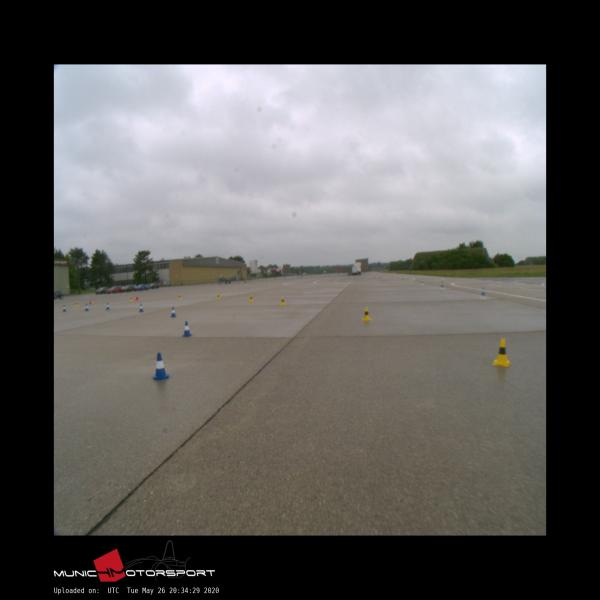blue_cone: (153, 353, 169, 379), (182, 322, 193, 336), (170, 307, 176, 317), (139, 303, 144, 312), (106, 302, 110, 310), (85, 304, 89, 311), (63, 305, 66, 312)
yellow_cone: (493, 338, 511, 366), (362, 308, 370, 320), (280, 297, 286, 305), (216, 293, 221, 299), (249, 294, 253, 301), (129, 296, 133, 301), (178, 294, 181, 300), (75, 302, 78, 306)
